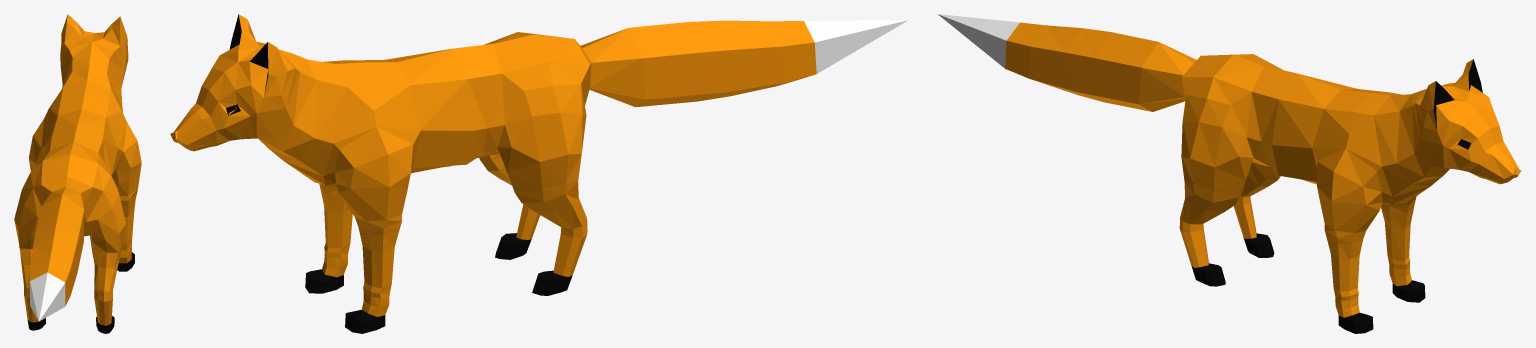
File: Fox_Forrest_World_Kloiber.fbx
The picture shows the model from 3 angles, left to right: view 1: azimuth 30°, elevation 25°; view 2: azimuth 150°, elevation 25°; view 3: azimuth 270°, elevation 25°; orthographic projection. The views are drawn at different scales.
Visible parts, largest first — view 1: fox; view 2: fox; view 3: fox.
Part boxes in pixels (<box>): fox: <box>14,14,141,333</box>; fox: <box>170,14,908,333</box>; fox: <box>938,14,1521,333</box>.
Size of the model in its own units: 0.891 by 0.6083 by 1.22.
